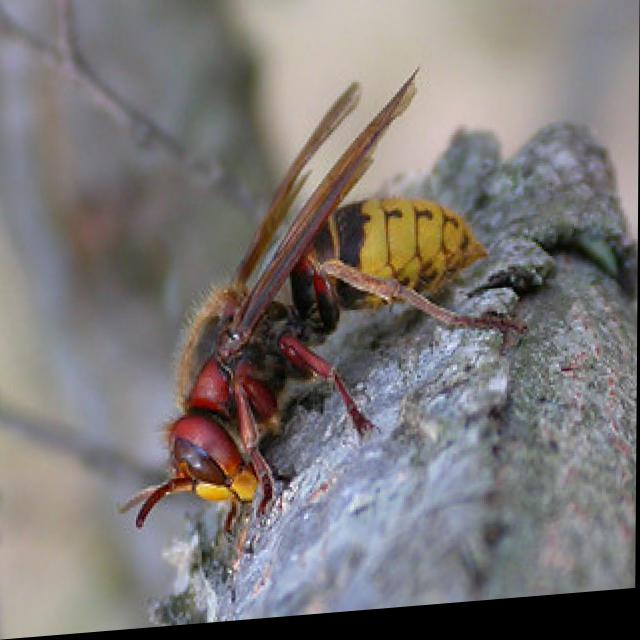Guepe: (99, 60, 545, 583)
